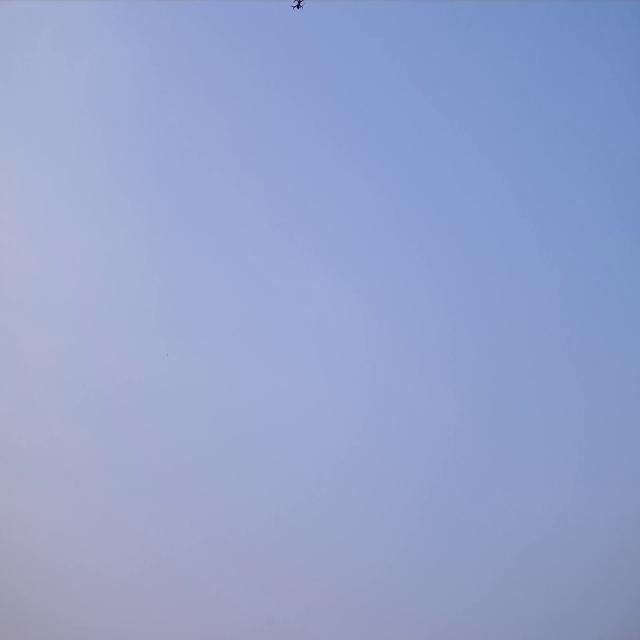UAV: (290, 0, 306, 12)
